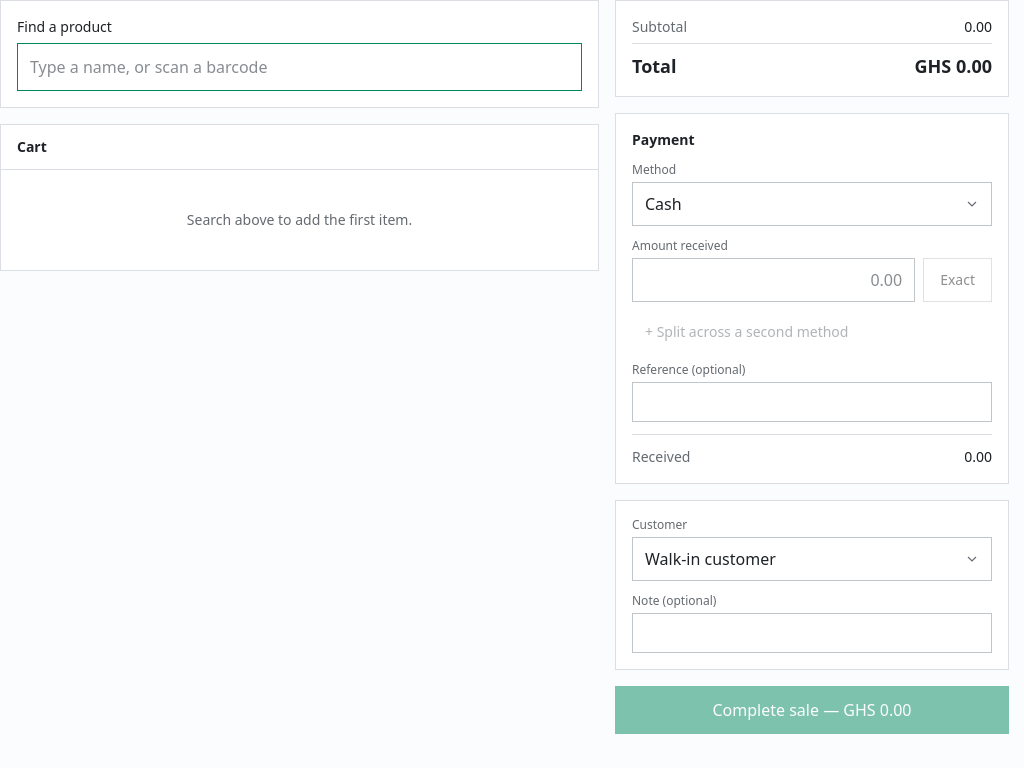
when the quantity cannot be met from stock that is in date › names how much IS in date, and who has to approve the rest
The width and height of the screenshot is (1024, 768).
Type "Milk" into the field labelled "Find a product" at (300, 67), box top-left (17, 43), bottom-right (582, 91)
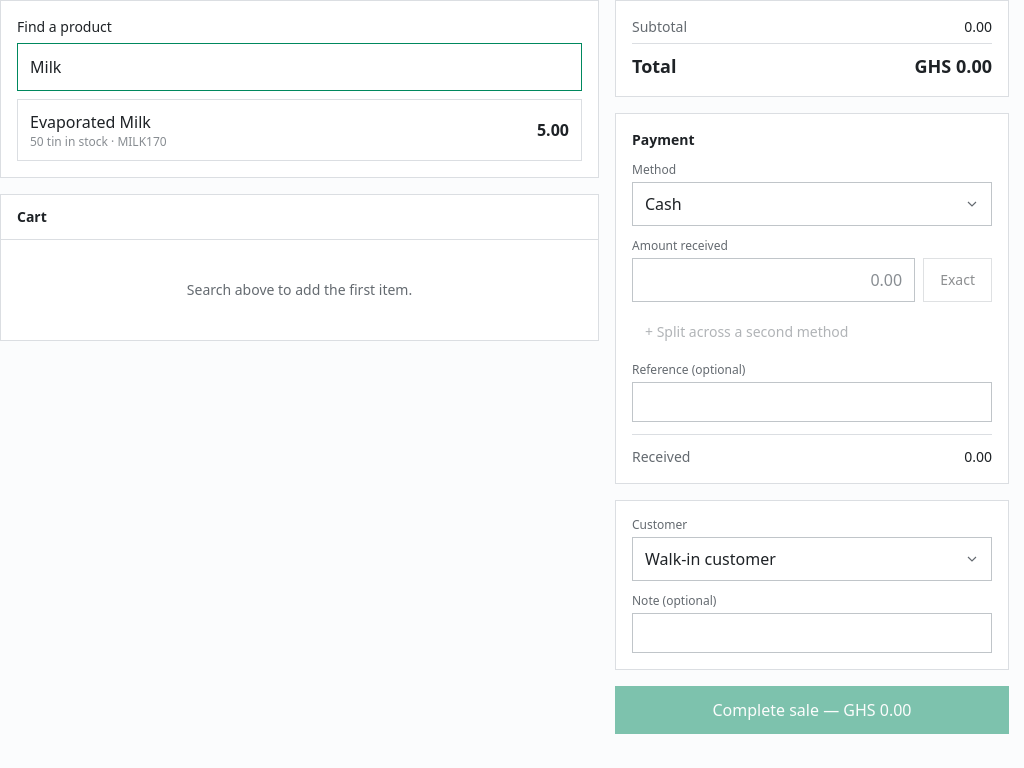
Click the button "Evaporated Milk 50 tin in stock · MILK170 5.00" at (90, 122), box top-left (18, 100), bottom-right (581, 160)
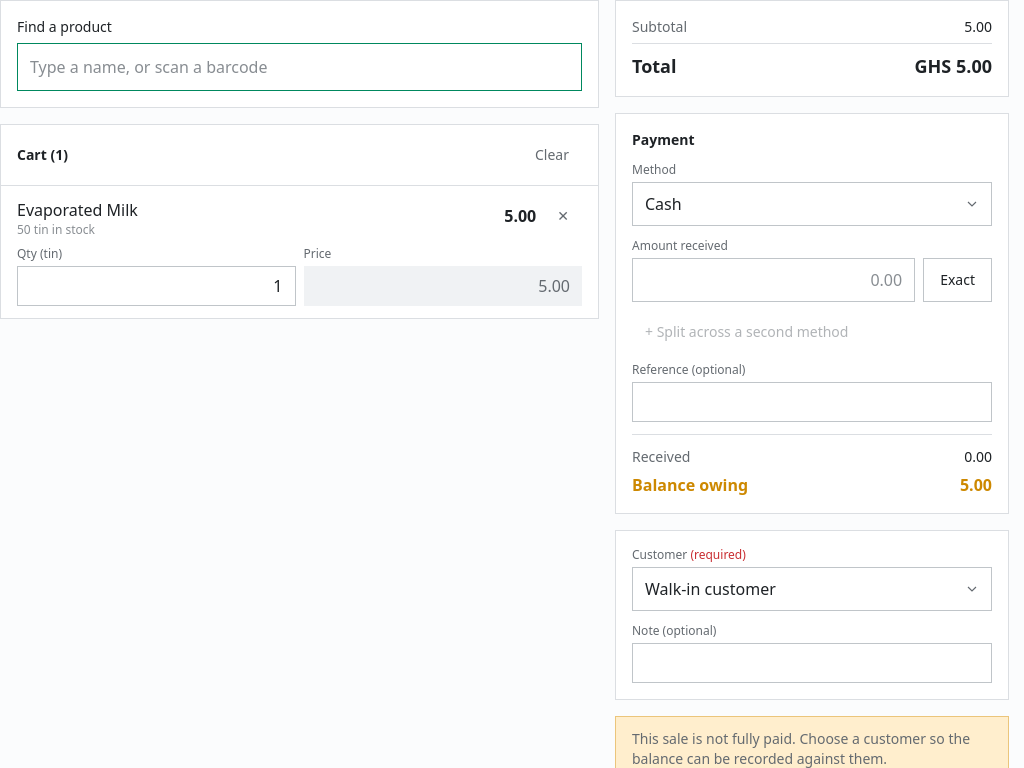
Replace the text in the field labelled "Qty (tin)" with "4" at (156, 286), box top-left (17, 266), bottom-right (296, 306)
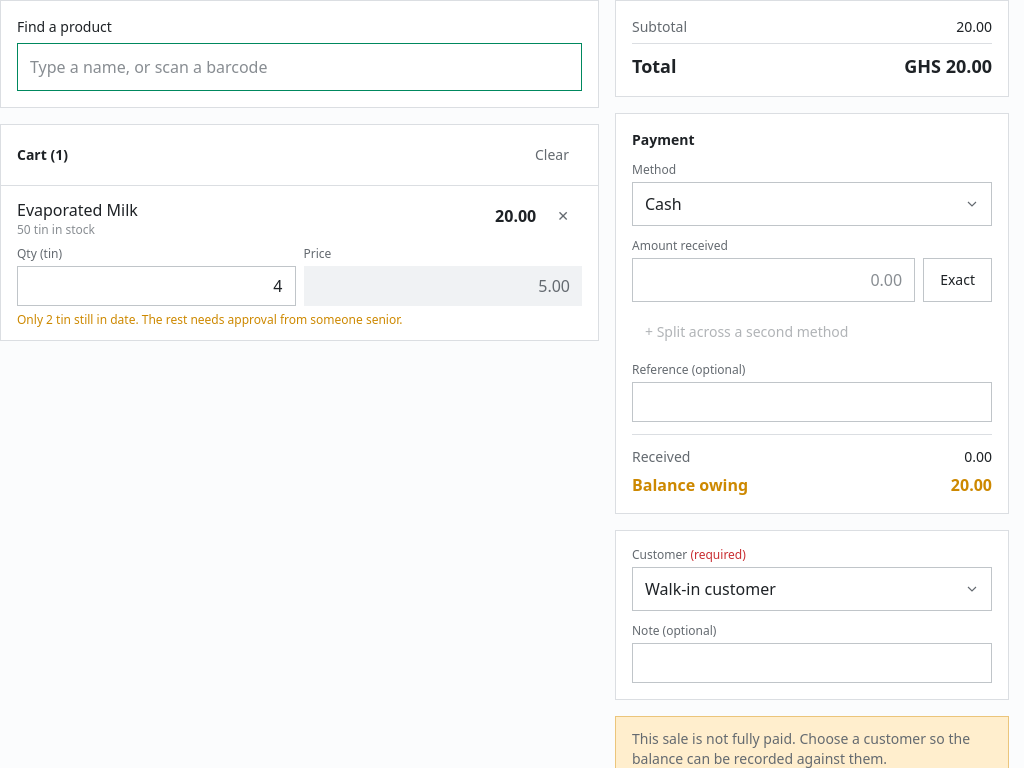
Now the text "Only 2 tin still in date" is shown, box top-left (17, 311), bottom-right (139, 328)
Now the text "The rest needs approval from someone senior" is shown, box top-left (139, 311), bottom-right (402, 328)
